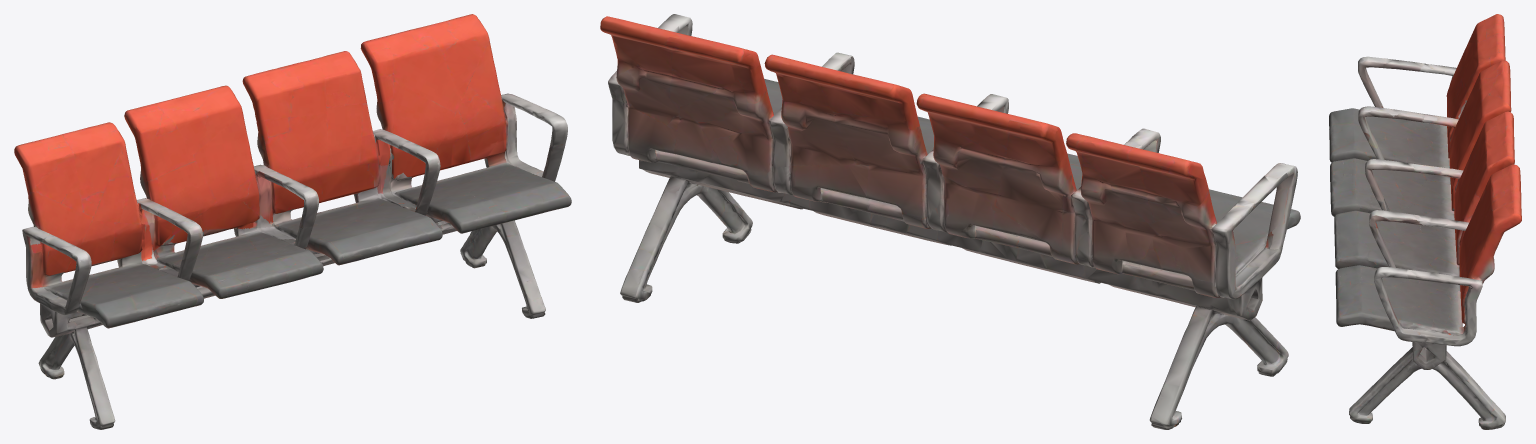
File: leadcom.glb
The picture shows the model from 3 angles, left to right: view 1: azimuth 30°, elevation 25°; view 2: azimuth 150°, elevation 25°; view 3: azimuth 270°, elevation 25°; orthographic projection. The views are drawn at different scales.
Visible parts, largest first — view 1: tmp6o0gxvokobj; view 2: tmp6o0gxvokobj; view 3: tmp6o0gxvokobj.
Boxes of the visible parts, left/top/right/bottom form: tmp6o0gxvokobj: left=14, top=14, right=571, bottom=429; tmp6o0gxvokobj: left=600, top=14, right=1300, bottom=429; tmp6o0gxvokobj: left=1329, top=14, right=1521, bottom=429.
Bounding box in the file's own units: 0.9999 × 0.4613 × 0.3623.
1 material, 1 textured.
